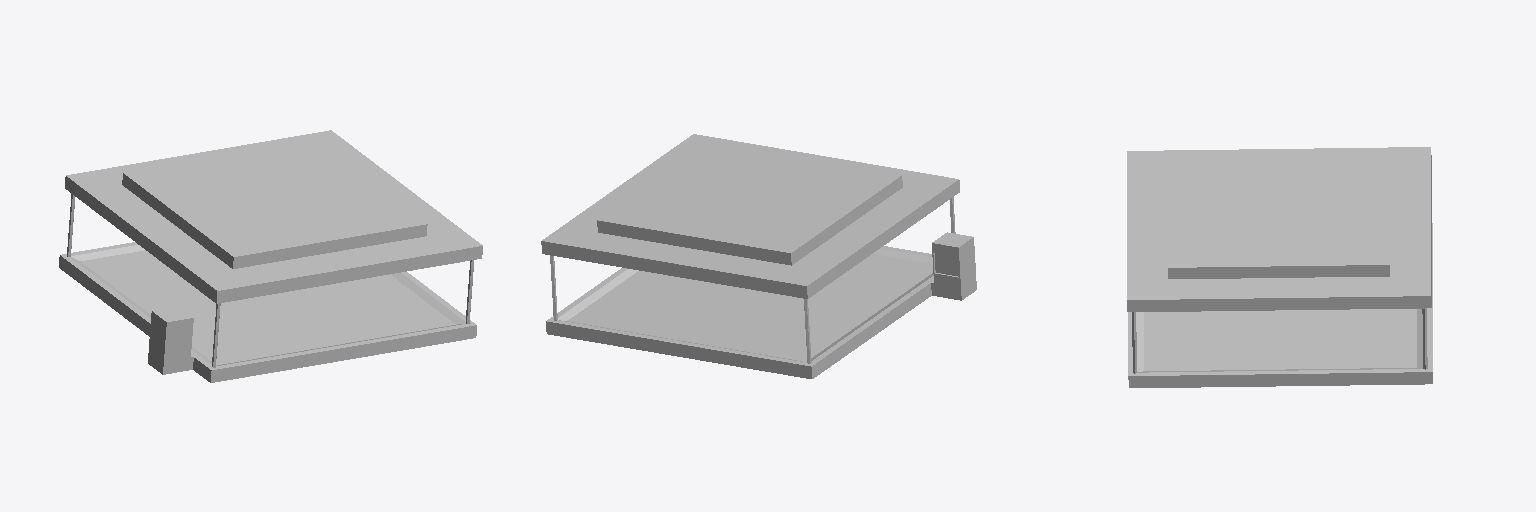
Rendered from Ingang Minigame 1 Part 1.obj.
The picture shows the model from 3 angles: view 1: azimuth 30°, elevation 25°; view 2: azimuth 150°, elevation 25°; view 3: azimuth 270°, elevation 25°; orthographic projection.
Parts seen in each view (by area): view 1: Part_1; view 2: Part_1; view 3: Part_1.
Part boxes in pixels (left/top/right/bottom): Part_1: left=59, top=130, right=482, bottom=382; Part_1: left=541, top=134, right=976, bottom=378; Part_1: left=1127, top=147, right=1432, bottom=387.
Size of the model in its own units: 0.183 by 0.0716 by 0.1604.